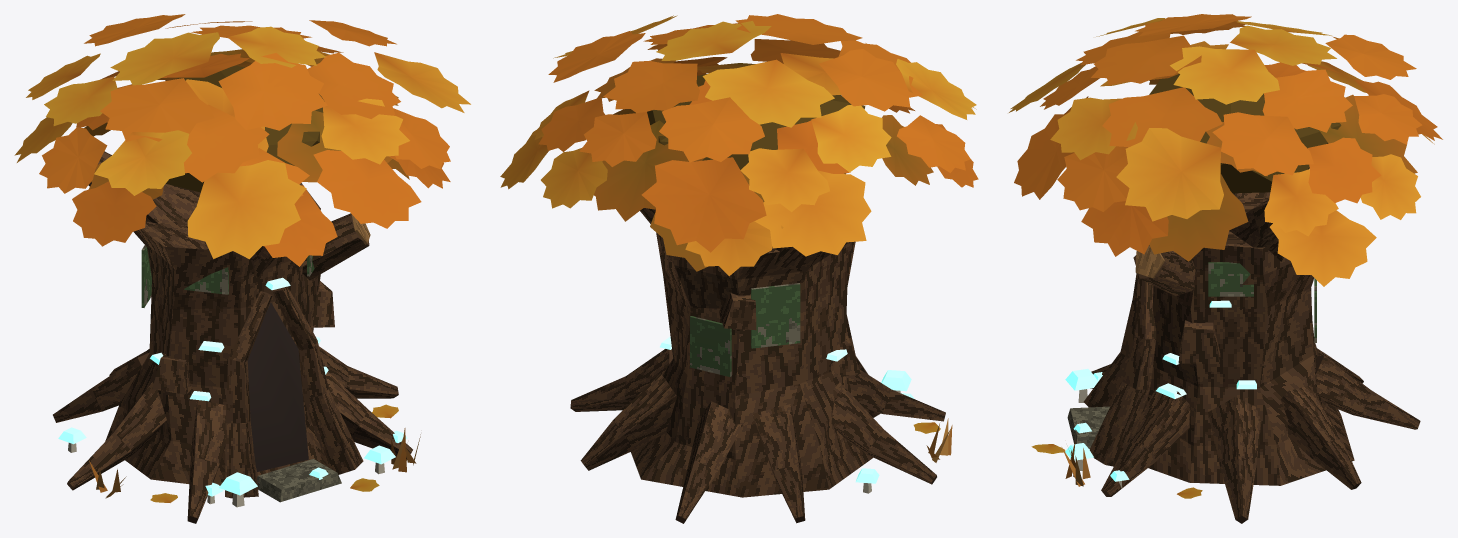
Rendered from ancient_tree.glb.
3 views of the same model, side by side, from view 1: azimuth 30°, elevation 25°; view 2: azimuth 150°, elevation 25°; view 3: azimuth 270°, elevation 25° (orthographic). The views are drawn at different scales.
Parts seen in each view (by area): view 1: sway_crown, ancient_tree, glow_mushrooms; view 2: sway_crown, ancient_tree, glow_mushrooms; view 3: sway_crown, ancient_tree, glow_mushrooms.
Boxes of the visible parts, box(x1,y1,x2,y2) form: sway_crown: box(14, 14, 470, 266); ancient_tree: box(53, 151, 420, 523); glow_mushrooms: box(58, 277, 407, 496); sway_crown: box(500, 14, 978, 276); ancient_tree: box(570, 208, 952, 523); glow_mushrooms: box(660, 336, 914, 483); sway_crown: box(1009, 14, 1442, 286); ancient_tree: box(1031, 192, 1420, 523); glow_mushrooms: box(1065, 300, 1256, 481).
Size of the model in its own units: 5.09 by 4.81 by 4.78.
Materials: 12 (4 with a texture image).
